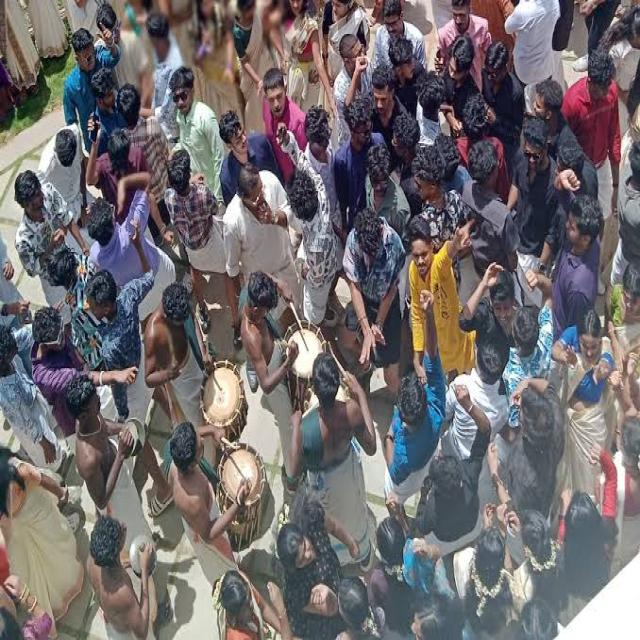humans: (279, 344, 384, 574), (166, 137, 247, 357), (386, 386, 487, 541), (275, 120, 347, 330), (76, 218, 149, 422), (240, 264, 304, 496), (28, 306, 138, 434), (81, 169, 176, 314), (84, 107, 177, 254), (0, 448, 83, 611), (219, 160, 299, 329), (383, 287, 446, 501), (563, 53, 615, 289), (341, 202, 405, 392), (162, 410, 228, 586), (405, 214, 474, 382), (554, 307, 616, 491), (0, 315, 70, 474), (10, 165, 89, 302), (82, 510, 156, 640), (41, 241, 114, 370), (492, 375, 562, 509), (145, 280, 209, 426), (508, 117, 558, 300), (274, 498, 340, 636), (560, 444, 618, 594), (115, 79, 173, 227), (444, 339, 510, 465), (462, 139, 524, 273), (551, 166, 602, 326), (280, 1, 343, 123), (166, 59, 231, 174), (188, 0, 243, 119), (408, 145, 471, 246), (58, 23, 112, 134), (508, 504, 566, 607), (522, 78, 588, 168), (208, 570, 292, 640), (455, 524, 511, 628), (136, 10, 184, 128), (477, 45, 526, 159), (406, 535, 458, 640), (459, 258, 518, 348), (360, 144, 416, 238), (257, 65, 309, 164), (214, 104, 274, 189), (93, 1, 147, 94), (607, 256, 640, 407), (510, 272, 555, 381), (232, 0, 270, 125), (370, 518, 419, 614), (455, 89, 512, 169), (610, 406, 640, 556), (372, 1, 427, 77), (300, 104, 346, 194), (332, 30, 370, 124), (0, 574, 55, 638), (601, 4, 640, 91), (333, 574, 384, 640), (320, 0, 356, 93), (617, 136, 640, 280), (363, 64, 405, 139), (379, 34, 427, 98), (431, 2, 490, 53), (43, 127, 87, 194), (83, 68, 120, 138), (438, 35, 482, 89), (416, 67, 449, 138), (512, 592, 557, 640)
